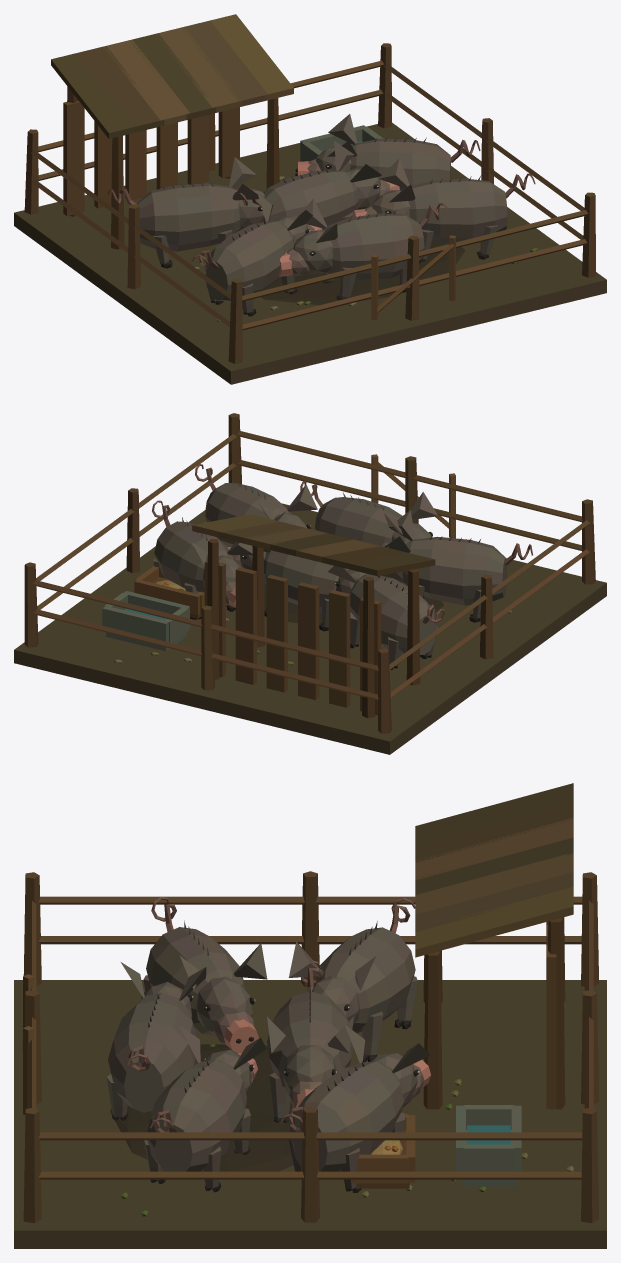
The model's file is elevage_cochon_grand.glb.
3 renders of one model, top to bottom at view 1: azimuth 30°, elevation 25°; view 2: azimuth 150°, elevation 25°; view 3: azimuth 270°, elevation 25°, orthographic. The views are drawn at different scales.
Visible parts, largest first — view 1: Enclos_grand, Cochon_04, Cochon_03, Cochon_02, Cochon_01, Cochon_00, Cochon_05; view 2: Enclos_grand, Cochon_01, Cochon_03, Cochon_05, Cochon_04, Cochon_02, Cochon_00; view 3: Enclos_grand, Cochon_02, Cochon_05, Cochon_03, Cochon_04, Cochon_01, Cochon_00.
Boxes of the visible parts, x1,y1,x2,y2 form: Enclos_grand: [14, 14, 606, 384]; Cochon_04: [278, 198, 449, 300]; Cochon_03: [107, 157, 264, 268]; Cochon_02: [352, 158, 535, 261]; Cochon_01: [191, 193, 322, 316]; Cochon_00: [232, 141, 399, 230]; Cochon_05: [295, 114, 480, 190]; Enclos_grand: [14, 413, 606, 754]; Cochon_01: [380, 510, 532, 622]; Cochon_03: [327, 546, 444, 669]; Cochon_05: [152, 500, 252, 619]; Cochon_04: [300, 481, 437, 545]; Cochon_02: [195, 464, 317, 547]; Cochon_00: [228, 511, 350, 631]; Enclos_grand: [14, 783, 606, 1248]; Cochon_02: [144, 1025, 266, 1192]; Cochon_05: [280, 1024, 430, 1192]; Cochon_03: [288, 898, 417, 1062]; Cochon_04: [106, 962, 206, 1120]; Cochon_01: [143, 897, 267, 1053]; Cochon_00: [267, 960, 353, 1122].
Bounding box in the file's own units: 0.532 × 0.2293 × 0.532.
